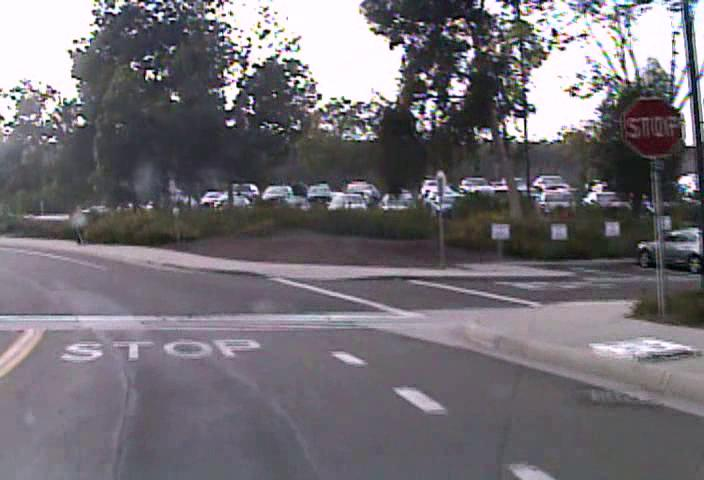stop: (620, 96, 685, 158)
